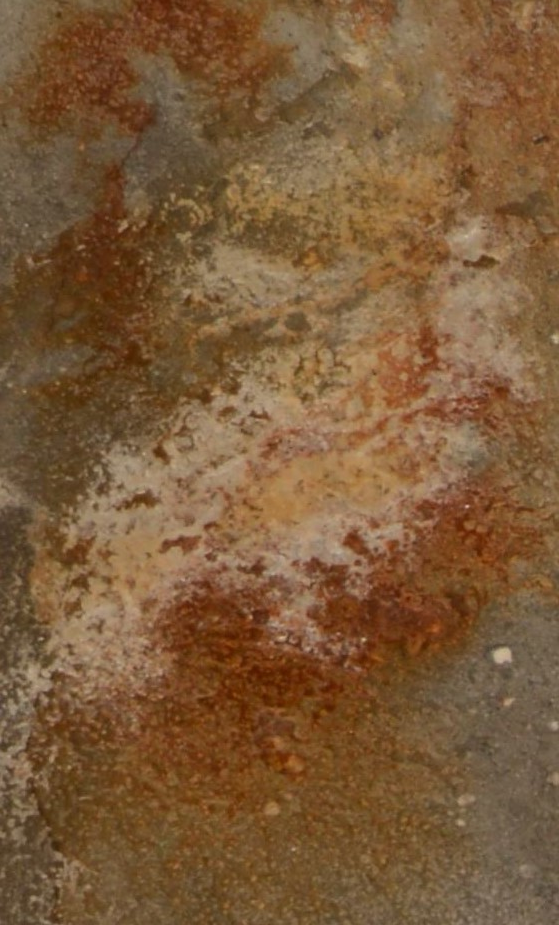Corrosion: (1, 1, 559, 925)
